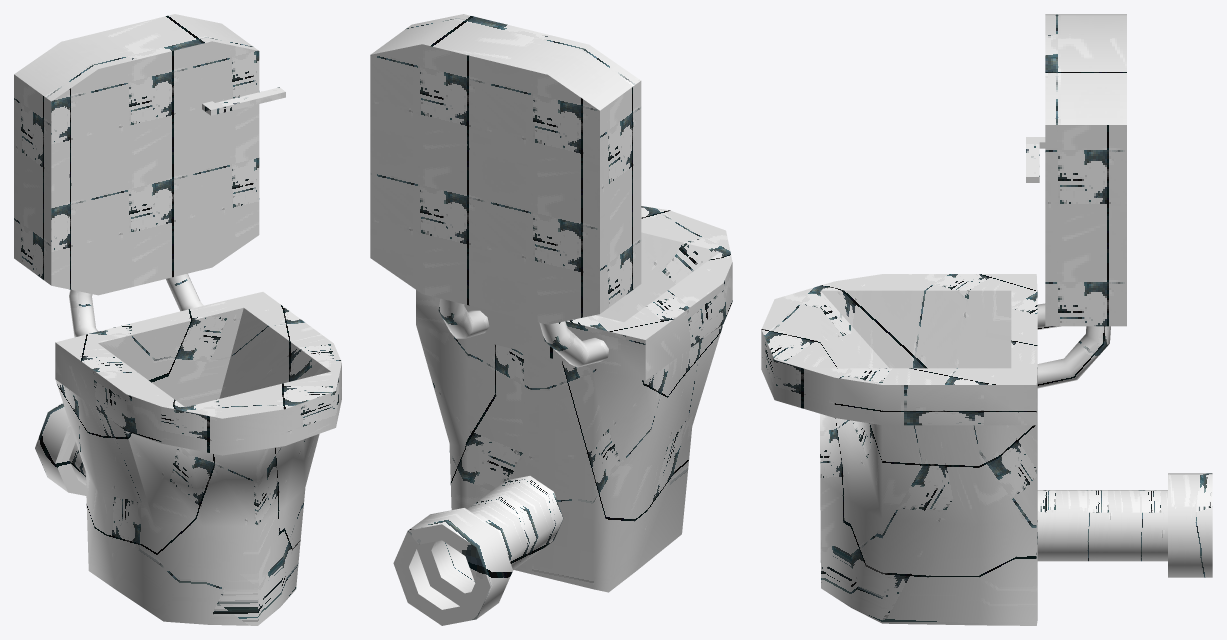
Rendered from ToiletBody.FBX.
3 views of the same model, side by side, from view 1: azimuth 30°, elevation 25°; view 2: azimuth 150°, elevation 25°; view 3: azimuth 270°, elevation 25° (orthographic). The views are drawn at different scales.
Parts seen in each view (by area): view 1: Toilet; view 2: Toilet; view 3: Toilet.
Part boxes in pixels (bbox=[...]): Toilet: bbox=[14, 14, 341, 625]; Toilet: bbox=[370, 14, 732, 625]; Toilet: bbox=[761, 14, 1212, 625].
Bounding box in the file's own units: 1.05 × 1.66 × 2.2.
Materials: 1 (1 with a texture image).
